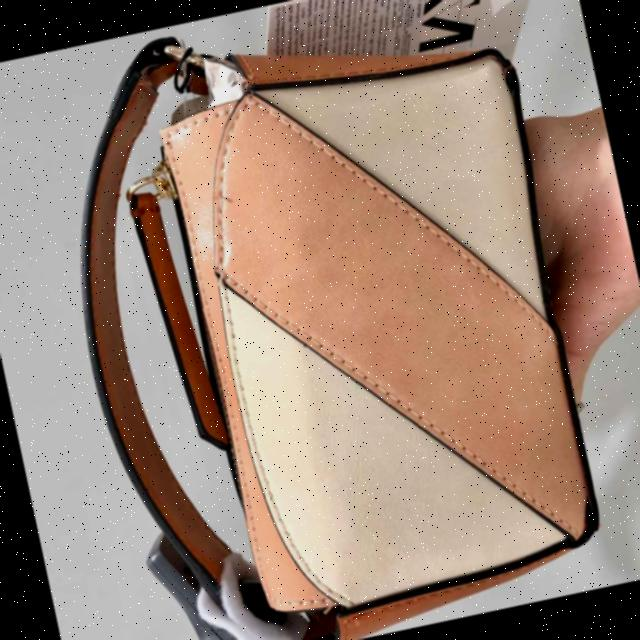Handbag: (17, 0, 633, 640)
